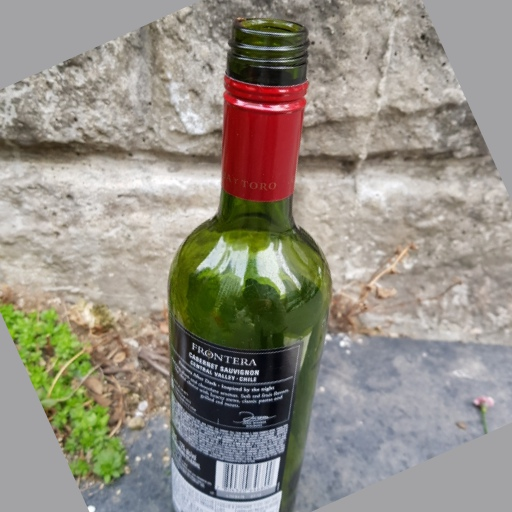Glass_2: (165, 16, 333, 512)
